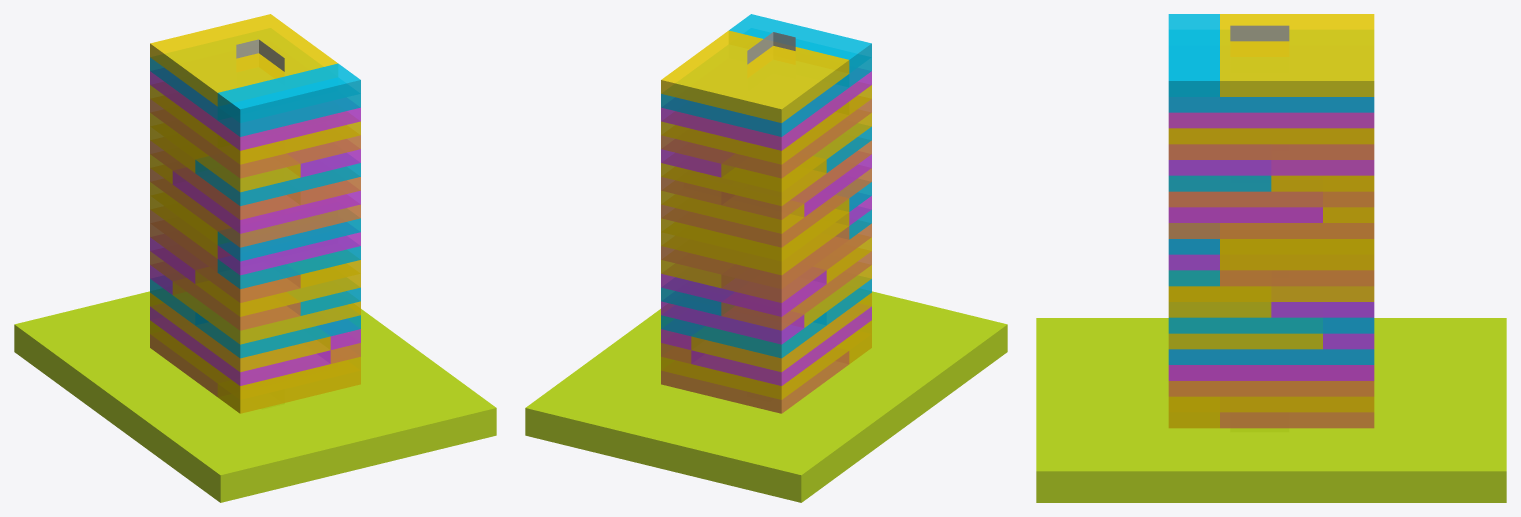
3 renders of one model, left to right at view 1: azimuth 30°, elevation 25°; view 2: azimuth 150°, elevation 25°; view 3: azimuth 270°, elevation 25°, orthographic. The views are drawn at different scales.
Visible parts, largest first — view 1: Mesh (×38); view 2: Mesh (×34); view 3: Mesh (×36).
Boxes of the visible parts, x1=… form: Mesh (×38): x1=14, y1=14, x2=496, y2=502; Mesh (×34): x1=525, y1=14, x2=1007, y2=502; Mesh (×36): x1=1036, y1=14, x2=1506, y2=502.
Bounding box in the file's own units: 123 × 148 × 159.
